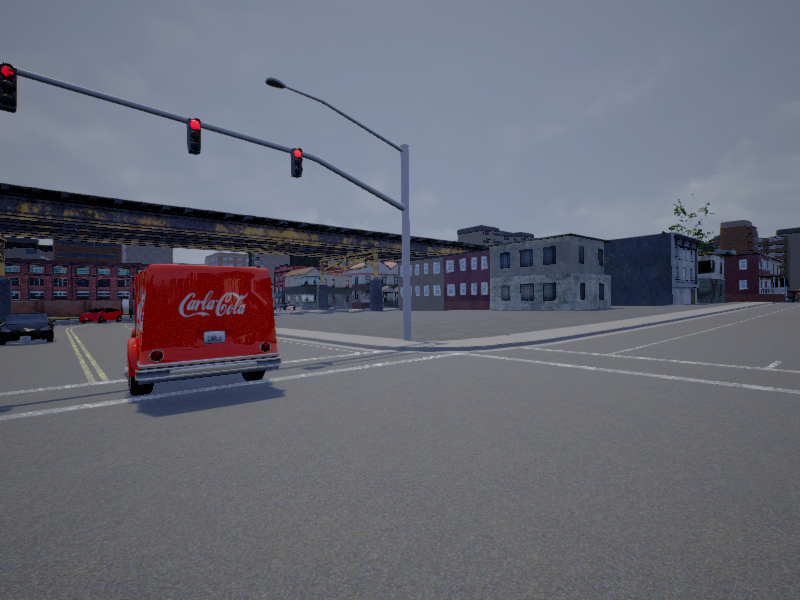Benign: (127, 264, 274, 396), (1, 311, 55, 345), (81, 305, 123, 324)
